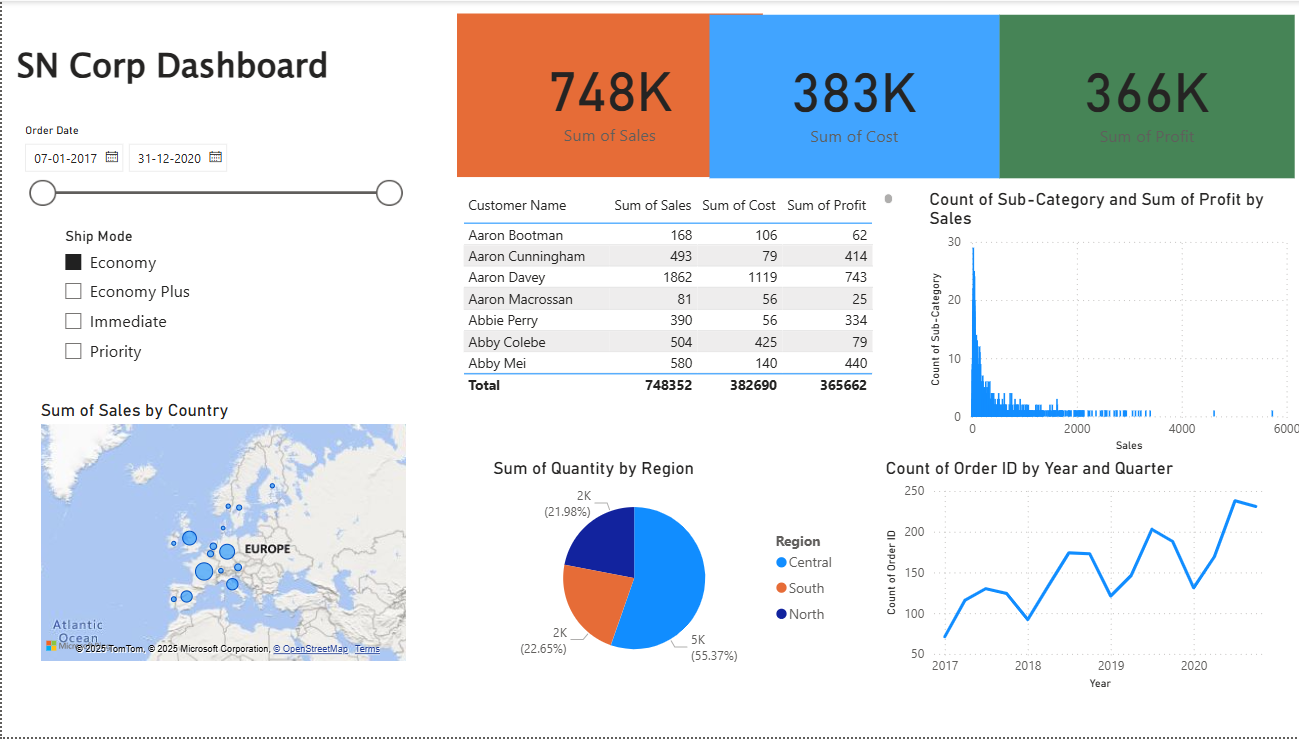

The dashboard page shown, as its layout file describes it:
{"tool":"powerbi","page":{"name":"Page 1","canvas":[1280,720],"ordinal":0},"visuals":[{"type":"tableEx","fields":{"Values":["List of Orders.Customer Name","List of Orders.Sales","List of Orders.Cost","List of Orders.Profit"]},"box":[464.7,183.4,374.2,206.7],"z":0},{"type":"clusteredColumnChart","fields":{"Category":["List of Orders.Sales"],"Y":["List of Orders.Sub-Category"]},"box":[902.5,183.4,374.2,262.9],"z":1000},{"type":"lineChart","fields":{"Category":["List of Orders.Order Date.Variation.Date Hierarchy.Year","List of Orders.Order Date.Variation.Date Hierarchy.Quarter"],"Y":["List of Orders.Order ID"]},"box":[859.7,446.3,385.2,232.3],"z":2000},{"type":"pieChart","fields":{"Category":["List of Orders.Region"],"Y":["List of Orders.Quantity"]},"box":[475.7,446.3,351,217.7],"z":3000},{"type":"card","fields":{"Values":["List of Orders.Sales"]},"box":[445.1,12.2,299.6,160.2],"z":4000},{"type":"card","fields":{"Values":["List of Orders.Cost"]},"box":[692.1,13.5,283.7,160.2],"z":5000},{"type":"card","fields":{"Values":["List of Orders.Profit"]},"box":[976,13,289,160],"z":6000},{"type":"map","fields":{"Category":["List of Orders.Country"],"Size":["List of Orders.Sales"]},"box":[33,390.1,366.8,260.5],"z":7000},{"type":"textbox","box":[9.8,34.2,366.8,80.7],"z":8000},{"type":"slicer","fields":{"Values":["List of Orders.Ship Mode"]},"box":[48.9,216.4,366.8,173.6],"z":9000},{"type":"slicer","fields":{"Values":["List of Orders.Order Date"]},"box":[9.8,114.9,390.1,99],"z":10000}]}

Visuals, with their boxes in screenshot pixels (x1, y1, x2, y2), scaled from the page's 1280x720 canvas onto the 1299x740 screenshot:
tableEx - List of Orders.Customer Name x List of Orders.Sales: l=472, t=188, r=851, b=401
clusteredColumnChart - List of Orders.Sales x List of Orders.Sub-Category: l=916, t=188, r=1296, b=459
lineChart - List of Orders.Order Date.Variation.Date Hierarchy.Year x List of Orders.Order Date.Variation.Date Hierarchy.Quarter: l=872, t=459, r=1263, b=697
pieChart - List of Orders.Region x List of Orders.Quantity: l=483, t=459, r=839, b=682
card - List of Orders.Sales: l=452, t=13, r=756, b=177
card - List of Orders.Cost: l=702, t=14, r=990, b=179
card - List of Orders.Profit: l=990, t=13, r=1284, b=178
map - List of Orders.Country x List of Orders.Sales: l=33, t=401, r=406, b=669
textbox: l=10, t=35, r=382, b=118
slicer - List of Orders.Ship Mode: l=50, t=222, r=422, b=401
slicer - List of Orders.Order Date: l=10, t=118, r=406, b=220
